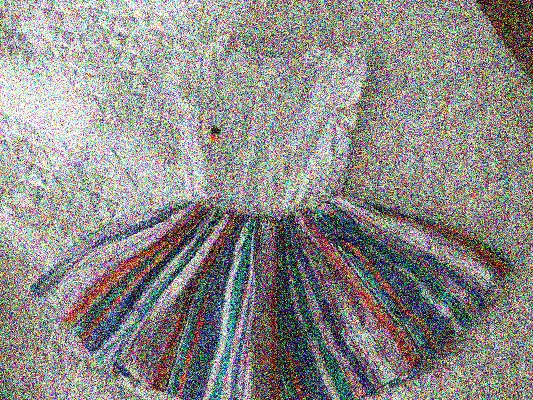Dress: (17, 32, 508, 394)
